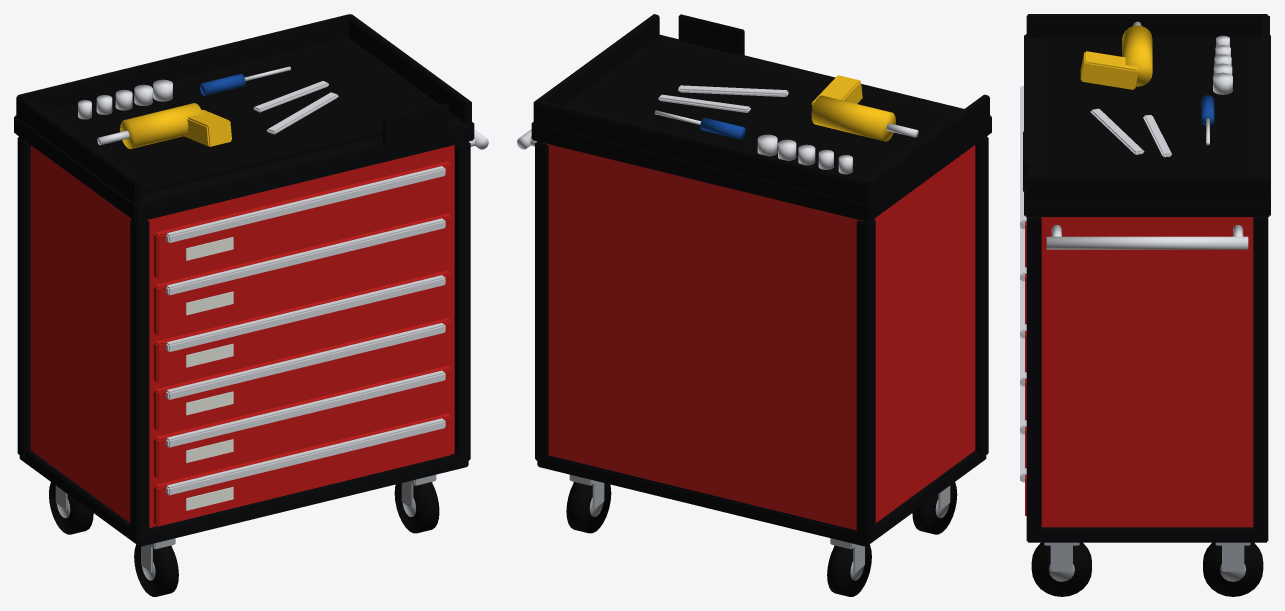
File: decor_tool_cart.glb
3 renders of one model, left to right at view 1: azimuth 30°, elevation 25°; view 2: azimuth 150°, elevation 25°; view 3: azimuth 270°, elevation 25°, orthographic.
Parts seen in each view (by area): view 1: PC_Red, PC_Black, PC_Rubber.001, PC_Chrome, PC_Rubber, PC_Paper, PC_Chrome.001, PC_Yellow, PC_Yellow.001, PC_Galv.001; view 2: PC_Red, PC_Black, PC_Rubber.001, PC_Rubber, PC_Chrome.001, PC_Yellow, PC_Chrome, PC_Galv.001, PC_Yellow.001, PC_Blue; view 3: PC_Red, PC_Black, PC_Rubber.001, PC_Chrome.001, PC_Rubber, PC_Chrome, PC_Yellow.001, PC_Galv.001, PC_Yellow, PC_Galv, PC_Blue.
Part boxes in pixels (box(x1,y1,x2,y2)): PC_Red: box(30, 145, 454, 527); PC_Black: box(14, 14, 474, 546); PC_Rubber.001: box(46, 39, 452, 194); PC_Chrome: box(166, 81, 445, 495); PC_Rubber: box(49, 482, 439, 596); PC_Paper: box(186, 237, 233, 510); PC_Chrome.001: box(78, 66, 488, 149); PC_Yellow: box(120, 103, 202, 148); PC_Yellow.001: box(184, 109, 231, 146); PC_Galv.001: box(55, 474, 436, 572); PC_Red: box(543, 143, 975, 530); PC_Black: box(531, 14, 991, 546); PC_Rubber.001: box(566, 39, 959, 180); PC_Rubber: box(566, 482, 957, 596); PC_Chrome.001: box(517, 110, 918, 174); PC_Yellow: box(811, 95, 895, 141); PC_Chrome: box(658, 85, 788, 112); PC_Galv.001: box(569, 474, 950, 572); PC_Yellow.001: box(811, 75, 862, 109); PC_Blue: box(700, 117, 745, 139); PC_Red: box(1025, 217, 1253, 527); PC_Black: box(1023, 14, 1270, 542); PC_Rubber.001: box(1041, 36, 1253, 175); PC_Chrome.001: box(1046, 21, 1248, 249); PC_Rubber: box(1031, 542, 1263, 596); PC_Chrome: box(1020, 85, 1171, 482); PC_Yellow.001: box(1080, 51, 1138, 89); PC_Galv.001: box(1044, 542, 1250, 571); PC_Yellow: box(1122, 25, 1152, 86); PC_Galv: box(1049, 564, 1246, 581); PC_Blue: box(1201, 95, 1214, 125).
Size of the model in its own units: 0.838 by 0.9762 by 0.498.
